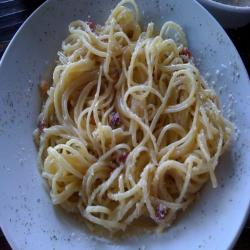carbonara: (31, 17, 230, 244)
